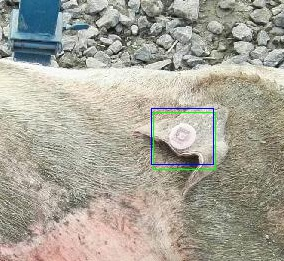text: (153, 112, 215, 169)
